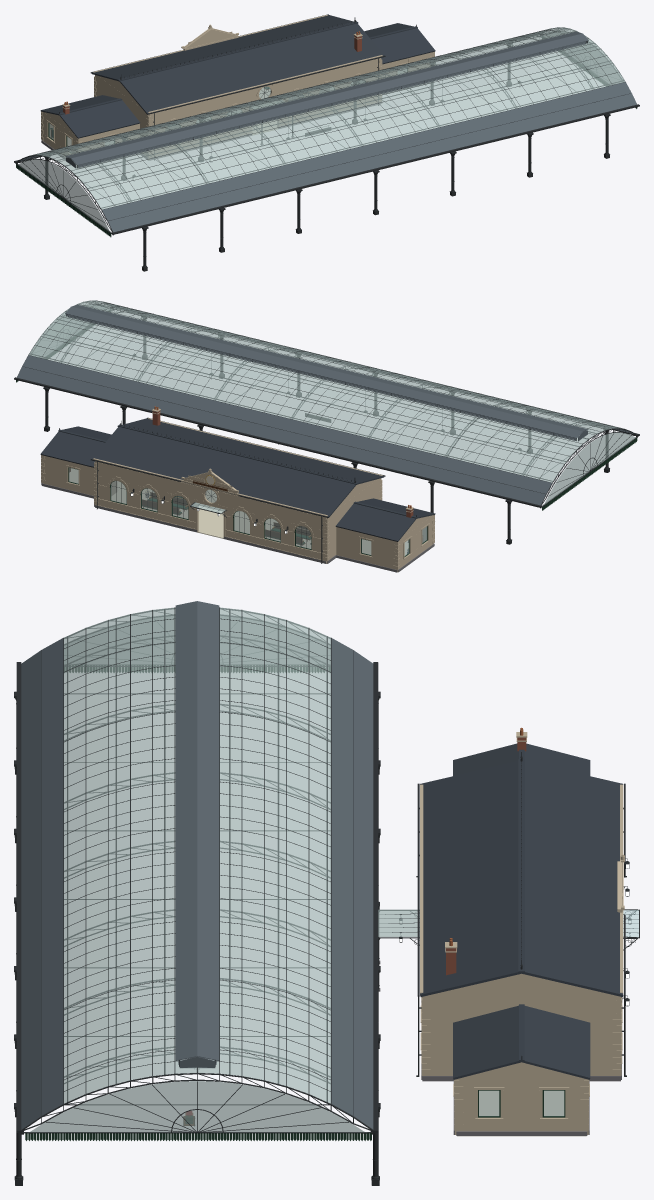
The model's file is StationB.fbx.
3 views of the same model, one above another, from view 1: azimuth 30°, elevation 25°; view 2: azimuth 150°, elevation 25°; view 3: azimuth 270°, elevation 25° (orthographic). The views are drawn at different scales.
Visible parts, largest first — view 1: Module_Shed_Roof_RailShedGlass, Module_Shed_Roof_RailZinc, Module_Hall_Roof_RailSlate, Module_Shed_Detail2_RailZinc, Module_Hall_Structure_RailStone, Module_Shed_Roof_RailIron, Module_Shed_Detail2_RailIron, Module_Annexes_RailSlate, Module_Shed_Trusses_RailIron, Module_Shed_Detail2_RailShedGlass, Module_Shed_Structure_RailIron, Module_Annexes_RailStone (+4 smaller); view 2: Module_Shed_Roof_RailShedGlass, Module_Shed_Roof_RailZinc, Module_Hall_Roof_RailSlate, Module_Hall_Structure_RailStone, Module_Shed_Detail2_RailZinc, Module_Shed_Roof_RailIron, Module_Shed_Trusses_RailIron, Module_Shed_Detail2_RailIron, Module_Annexes_RailSlate, Module_Annexes_RailStone, Module_Station_Masonry_RailStone, Module_Shed_Detail2_RailShedGlass (+9 smaller); view 3: Module_Shed_Roof_RailShedGlass, Module_Hall_Roof_RailSlate, Module_Shed_Roof_RailZinc, Module_Shed_Detail2_RailZinc, Module_Shed_Detail2_RailShedGlass, Module_Shed_Detail2_RailIron, Module_Shed_Trusses_RailIron, Module_Hall_Structure_RailStone, Module_Annexes_RailSlate, Module_Shed_Roof_RailIron, Module_Annexes_RailStone, Module_Shed_Detail2_RailGreen (+7 smaller).
Boxes of the visible parts, x1,y1,x2,y2 form: Module_Shed_Roof_RailShedGlass: (31,27,625,209); Module_Shed_Roof_RailZinc: (20,31,636,232); Module_Hall_Roof_RailSlate: (91,15,384,113); Module_Shed_Detail2_RailZinc: (65,31,588,168); Module_Hall_Structure_RailStone: (93,15,382,158); Module_Shed_Roof_RailIron: (28,27,630,220); Module_Shed_Detail2_RailIron: (14,30,639,234); Module_Annexes_RailSlate: (40,23,435,138); Module_Shed_Trusses_RailIron: (16,27,636,232); Module_Shed_Detail2_RailShedGlass: (18,32,621,231); Module_Shed_Structure_RailIron: (44,43,610,271); Module_Annexes_RailStone: (42,53,432,168); Module_Shed_Roof_RailShedGlass: (28,300,623,482); Module_Shed_Roof_RailZinc: (17,305,636,505); Module_Hall_Roof_RailSlate: (92,418,384,517); Module_Hall_Structure_RailStone: (93,418,382,563); Module_Shed_Detail2_RailZinc: (65,304,588,441); Module_Shed_Roof_RailIron: (22,300,625,494); Module_Shed_Trusses_RailIron: (17,301,637,505); Module_Shed_Detail2_RailIron: (14,303,639,507); Module_Annexes_RailSlate: (40,426,435,541); Module_Annexes_RailStone: (42,456,433,571); Module_Station_Masonry_RailStone: (41,455,434,569); Module_Shed_Detail2_RailShedGlass: (32,305,636,505); Module_Shed_Roof_RailShedGlass: (64,607,330,1103); Module_Hall_Roof_RailSlate: (420,759,623,996); Module_Shed_Roof_RailZinc: (21,638,373,1129); Module_Shed_Detail2_RailZinc: (175,601,219,1068); Module_Shed_Detail2_RailShedGlass: (28,616,366,1132); Module_Shed_Detail2_RailIron: (16,618,378,1133); Module_Shed_Trusses_RailIron: (21,608,373,1132); Module_Hall_Structure_RailStone: (420,784,623,1075); Module_Annexes_RailSlate: (453,743,590,1079); Module_Shed_Roof_RailIron: (41,607,353,1115); Module_Annexes_RailStone: (455,1062,588,1134); Module_Shed_Detail2_RailGreen: (25,665,371,1140).
Size of the model in its own units: 6840 by 1022 by 3861.
